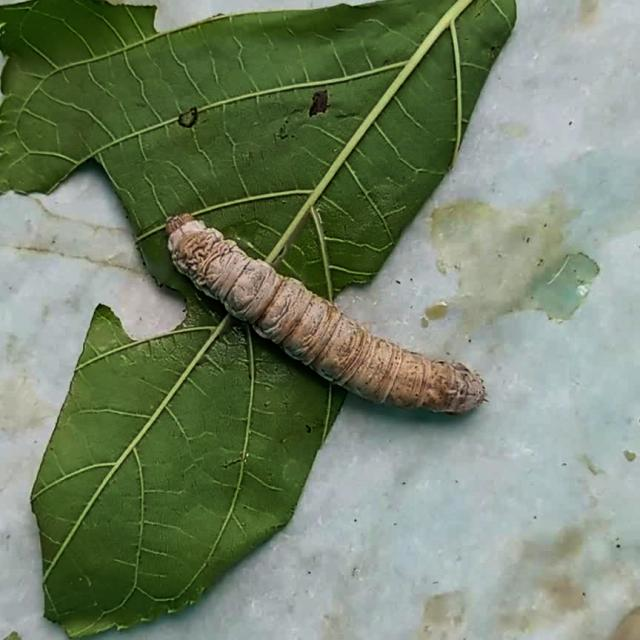Grasserie: (126, 192, 506, 446)
